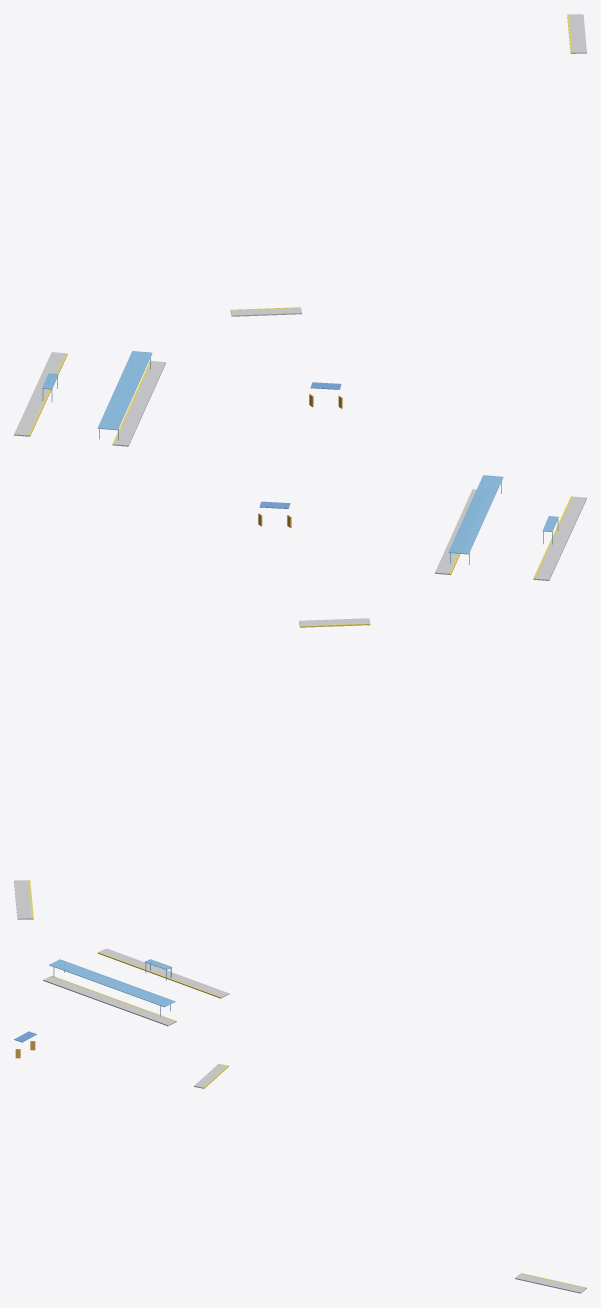
Rendered from 8571436-bern-bachmaetteli.glb.
3 renders of one model, top to bottom at view 1: azimuth 30°, elevation 25°; view 2: azimuth 210°, elevation 25°; view 3: azimuth 270°, elevation 25°, orthographic. The views are drawn at different scales.
Parts seen in each view (by area): view 1: platform_body@0, shelter@0, boarding_edge@0; view 2: platform_body@0, shelter@0, boarding_edge@0; view 3: platform_body@0, shelter@0, boarding_edge@0.
Boxes of the visible parts, box(x1,y1,x2,y2) form: platform_body@0: box(14, 14, 586, 446); shelter@0: box(42, 351, 152, 440); boarding_edge@0: box(28, 14, 572, 445); platform_body@0: box(14, 489, 586, 919); shelter@0: box(448, 475, 558, 564); boarding_edge@0: box(28, 496, 572, 919); platform_body@0: box(43, 948, 586, 1293); shelter@0: box(49, 959, 175, 1016); boarding_edge@0: box(51, 952, 586, 1288).
Size of the model in its own units: 192 by 4.95 by 135.
